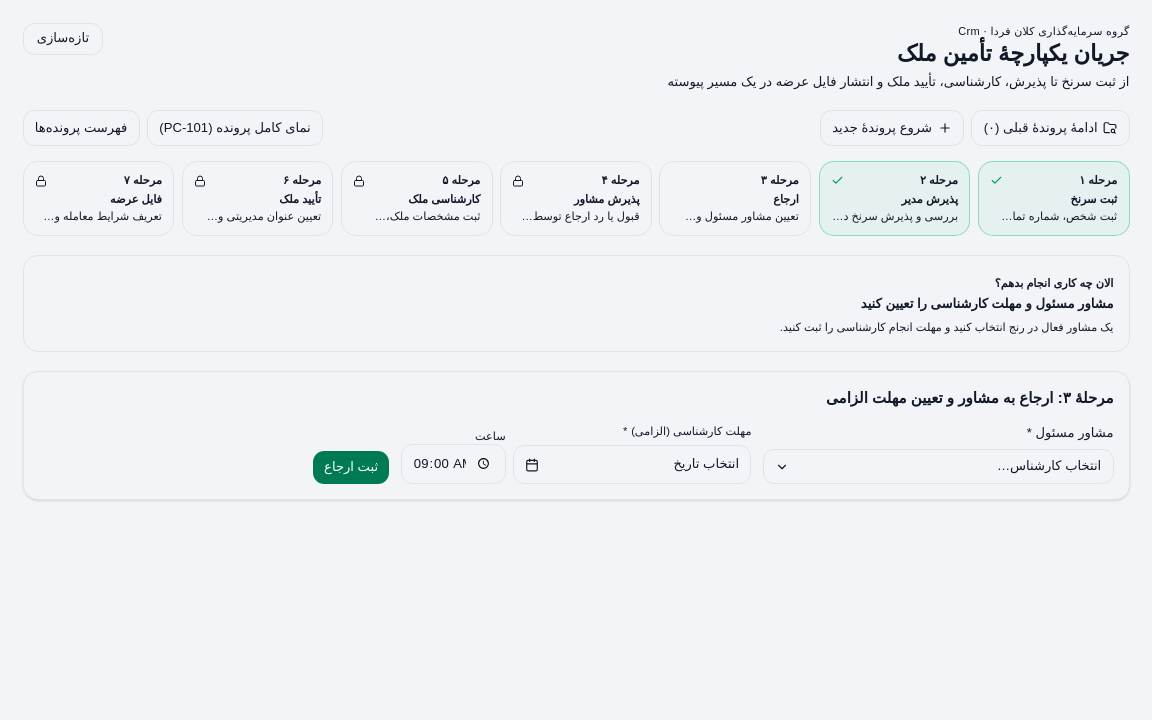
Test: property registration assignment step › lists the staff the server would accept, once each
This screenshot has width=1152, height=720.
Click the button "انتخاب کارشناس…": (1049, 466) [763, 449, 1114, 484]
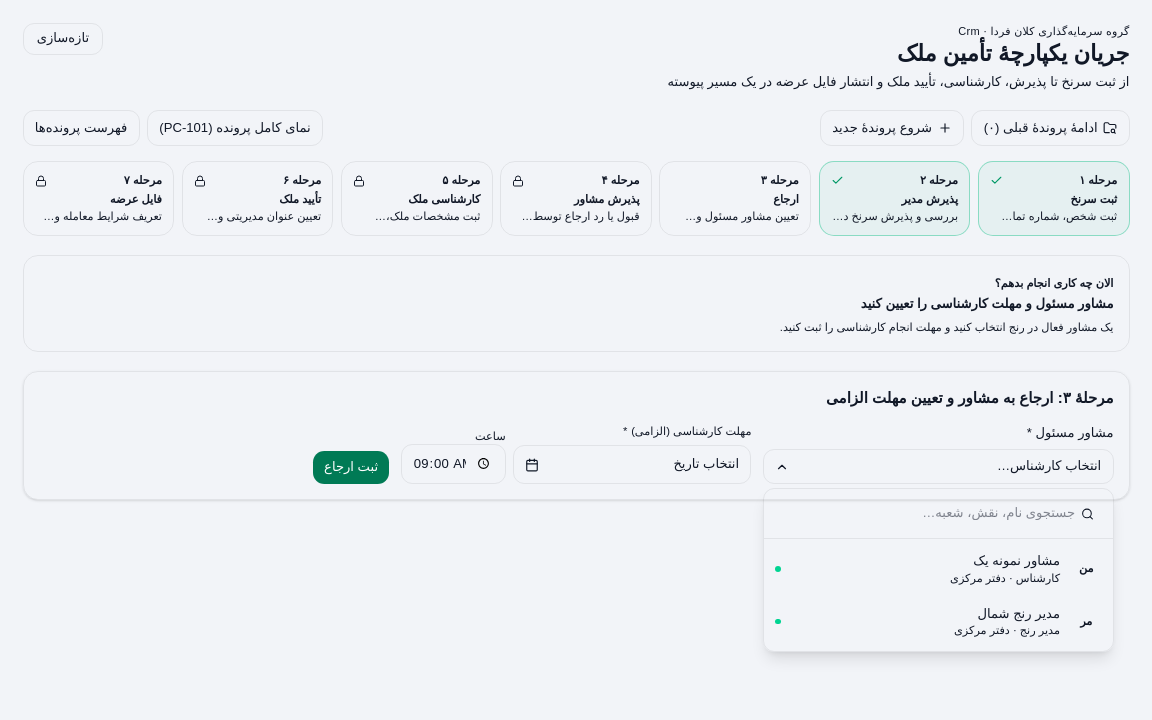
Now the text "مدیر رنج شمال" is shown, box [977, 606, 1060, 620]
Now the text "مشاور نمونه یک" is shown once, box [973, 553, 1060, 568]
// Search inside the list, like the consultant combobox in the rest of the app.
In the field with placeholder "جستجوی نام، نقش، شعبه…": (938, 514) [771, 497, 1105, 530], type "شمال"
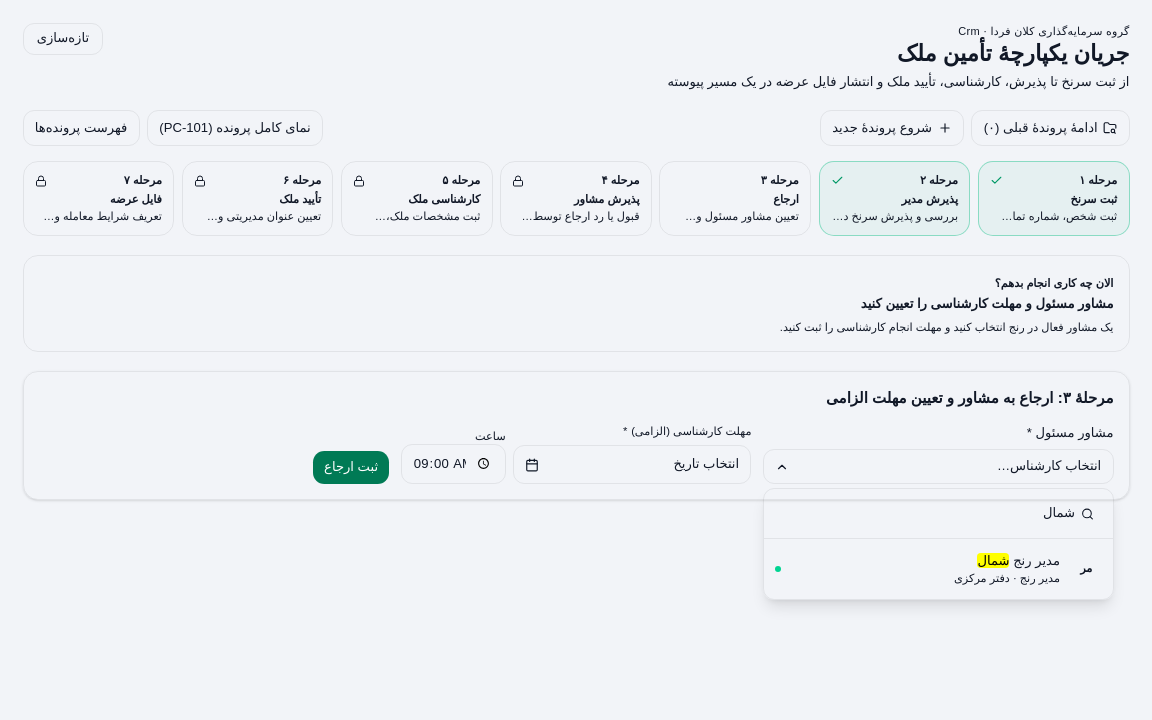
Now the button "مر مدیر رنج شمال مدیر رنج · دفتر مرکزی" is shown
Now the button "مشاور نمونه یک" is gone
Click the button "مر مدیر رنج شمال مدیر رنج · دفتر مرکزی": (1035, 561) [764, 543, 1112, 595]
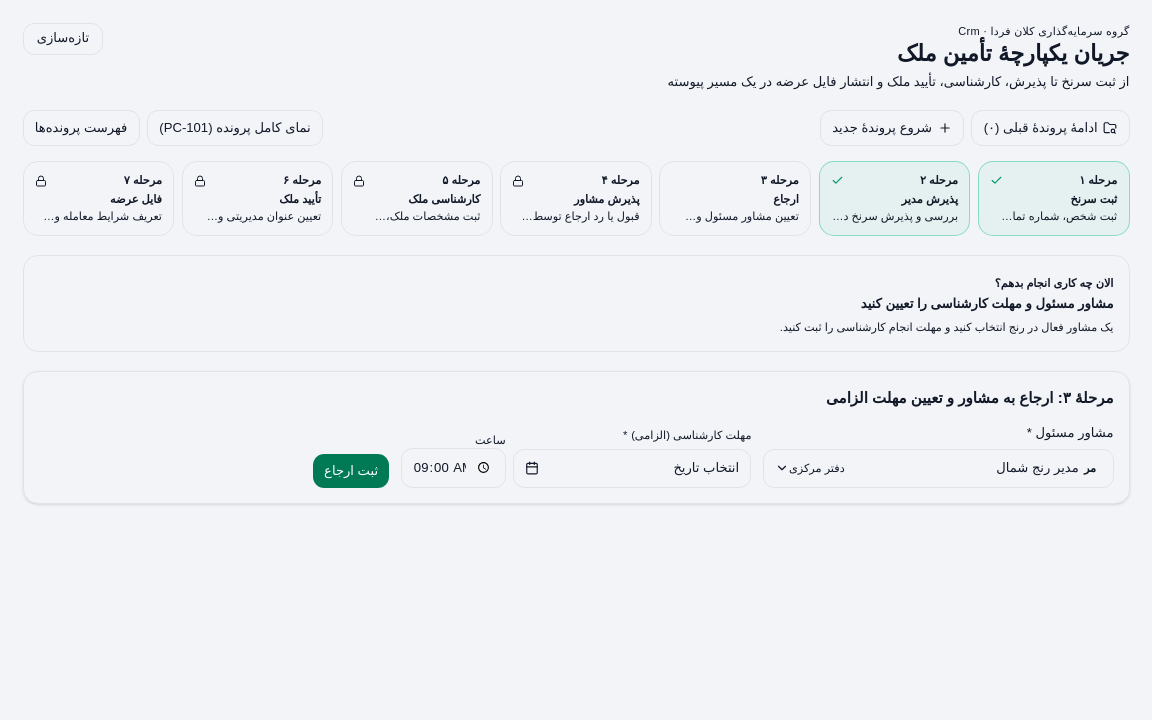
Now the button named "انتخاب کارشناس" shows "مدیر رنج شمال", box [763, 449, 1114, 488]
